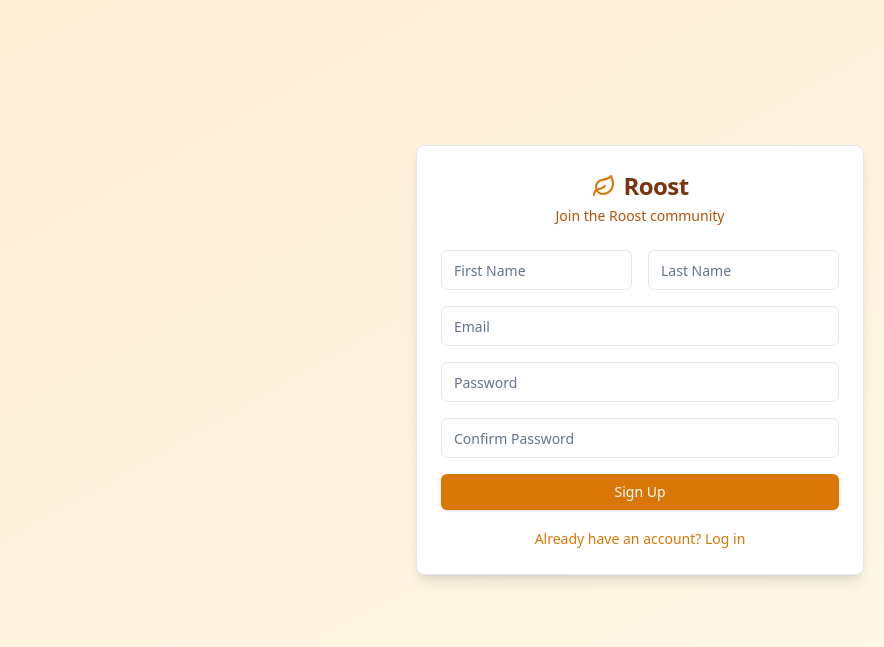
Test: SignupPage › Form Validation › should show validation errors for empty form submission
Click the button "Sign Up": (640, 492) [441,474,839,510]
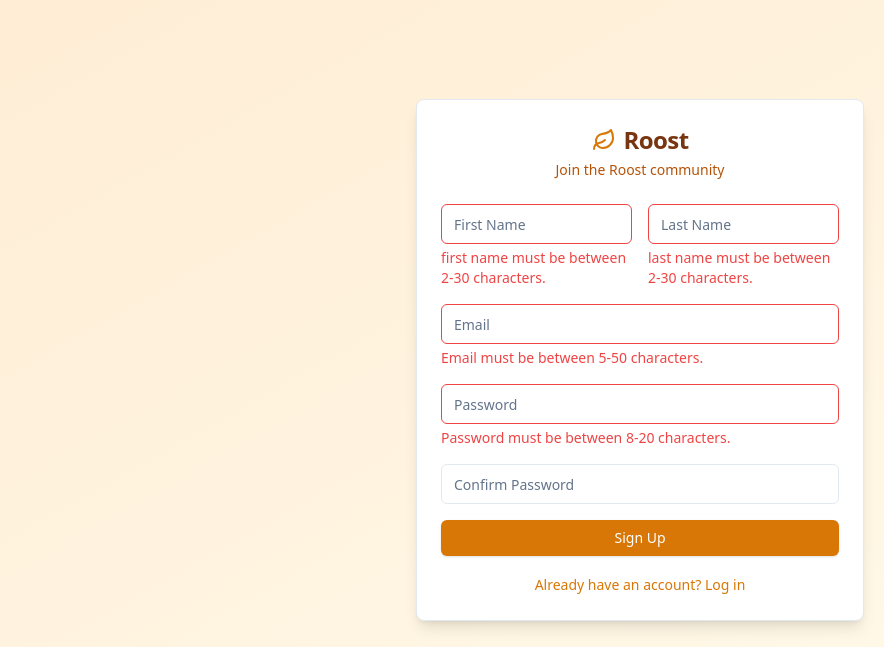
Check: the text "first name must be between 2-30 characters." is shown, box [441,248,632,288]
Check: the text "last name must be between 2-30 characters." is shown, box [648,248,839,288]
Check: the text "Email must be between 5-50 characters." is shown, box [441,348,703,367]
